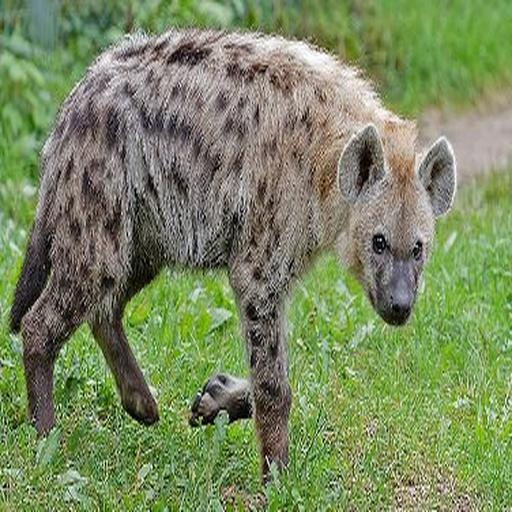Hyena: (0, 19, 470, 489)
